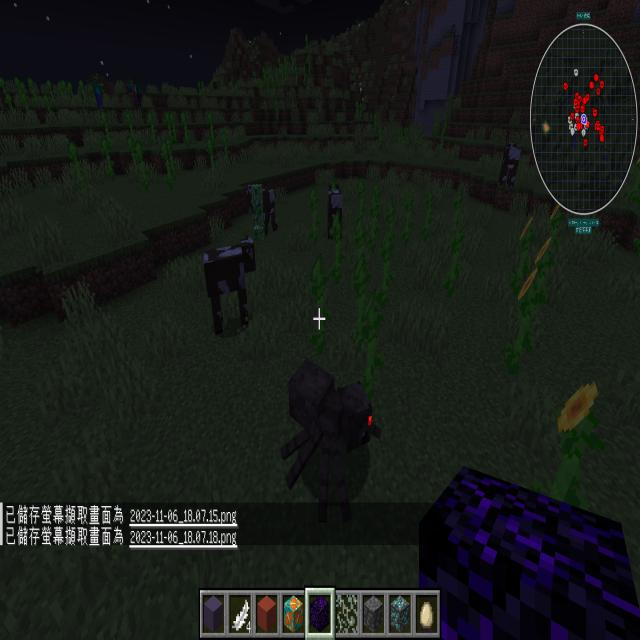Creeper: (248, 180, 267, 243)
Spider: (276, 352, 388, 534)
Zombie: (89, 70, 106, 112), (130, 72, 144, 111), (125, 76, 134, 97)
cow: (200, 236, 259, 342), (243, 181, 282, 239), (322, 180, 348, 245), (497, 138, 523, 192)
